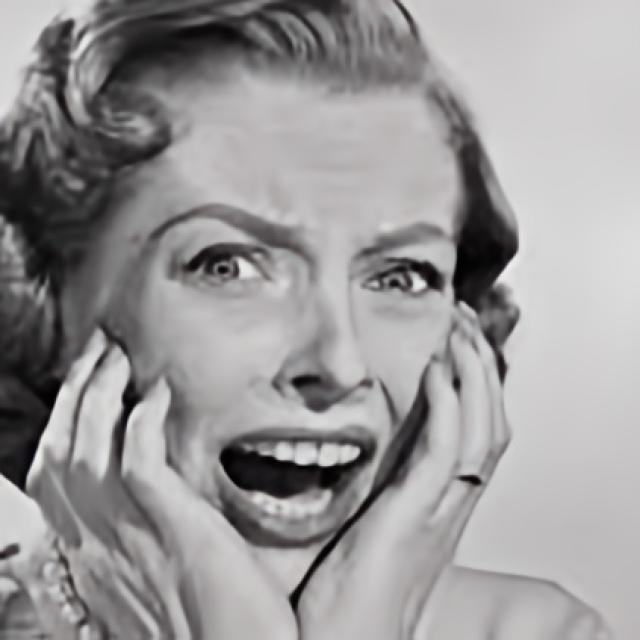Fear: (78, 45, 468, 605)
